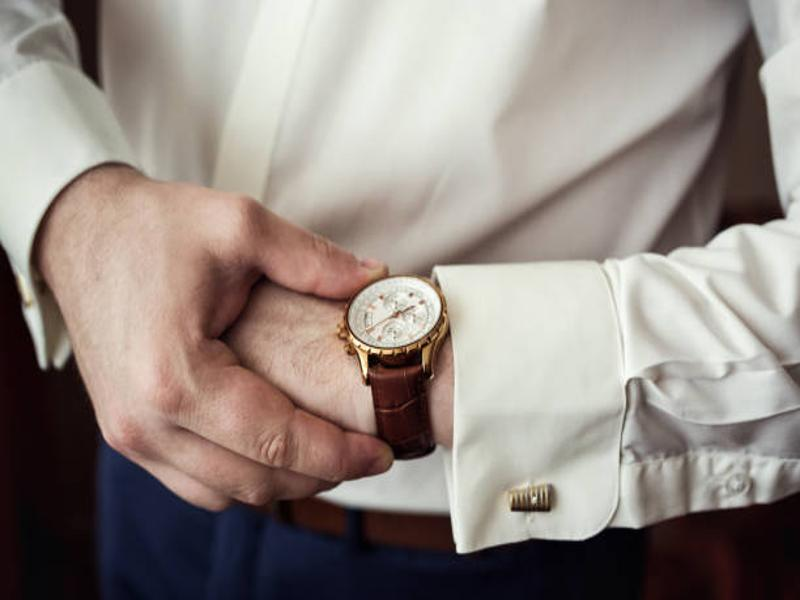watch: (337, 270, 447, 461)
